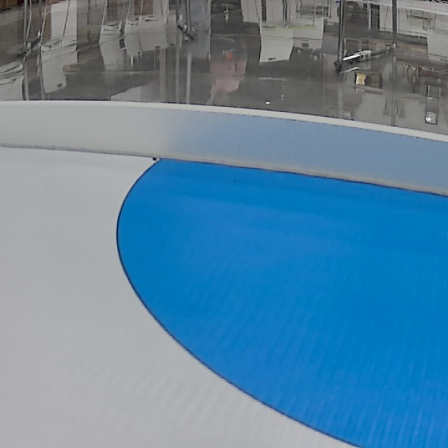blue_base: (115, 152, 448, 448)
